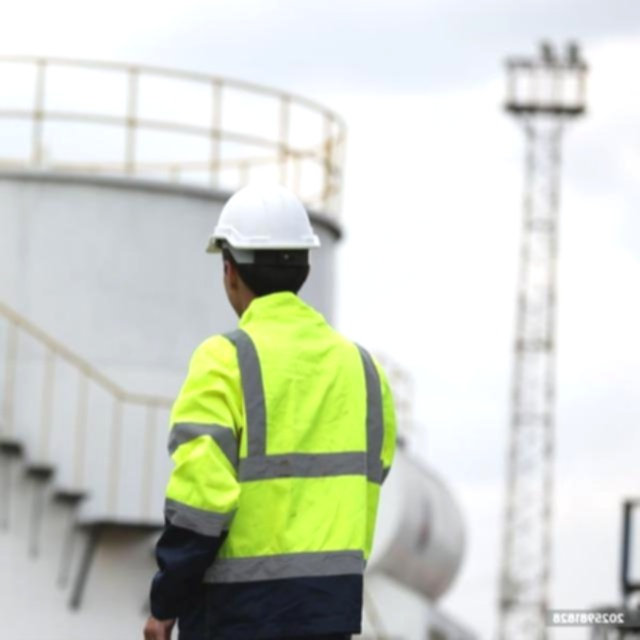Con_Casco: (202, 182, 320, 314)
Con_Chaleco: (173, 295, 391, 619)
